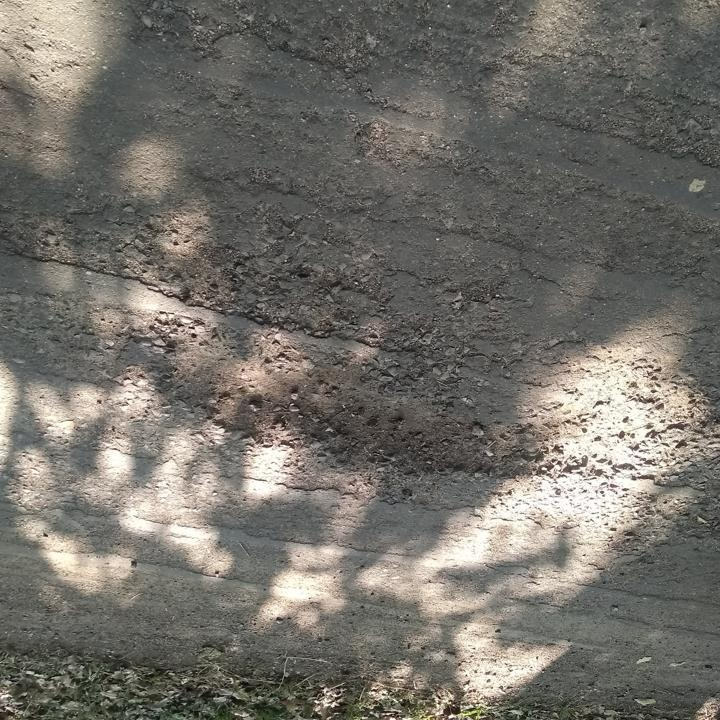pothole: (155, 328, 574, 486)
